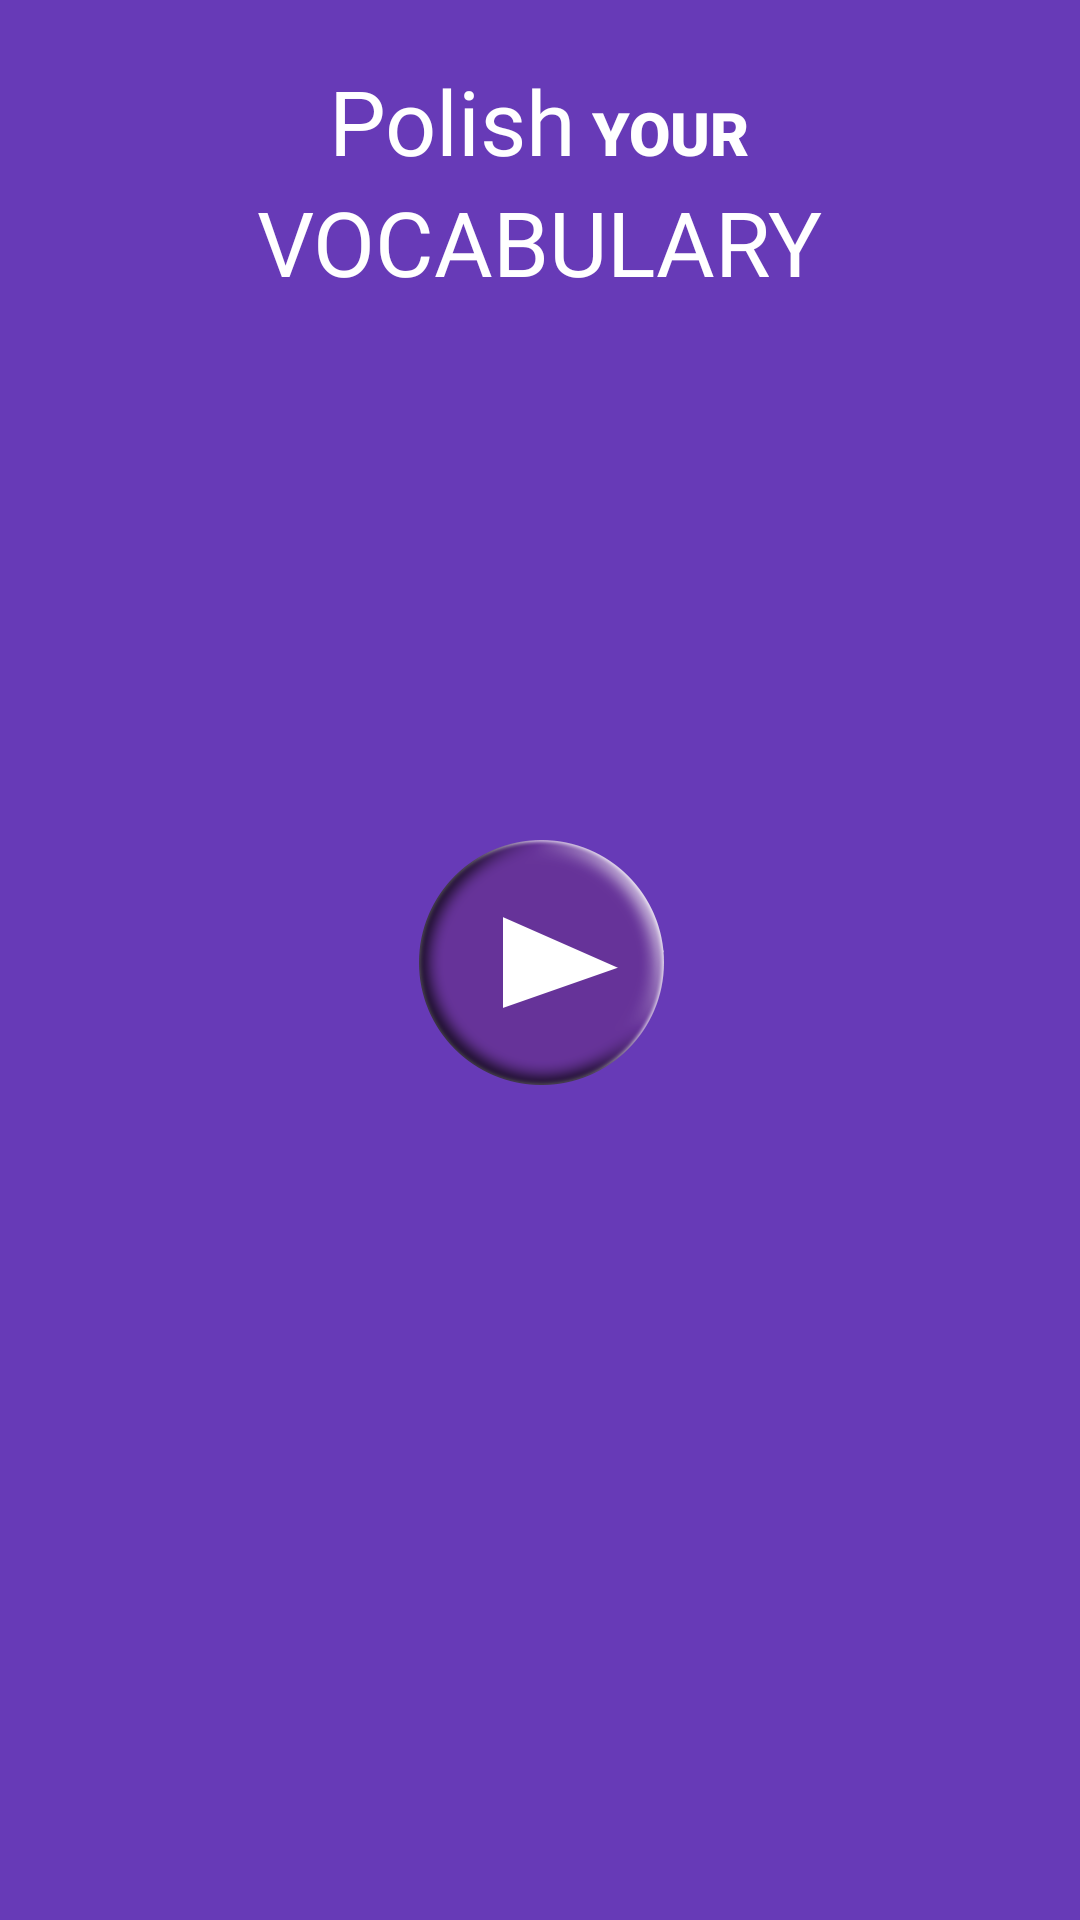

Named icons in this screenshot (1080*1920) and their bounding boxes, (x1, y1, x2, y2):
play: (419, 840, 664, 1085)
